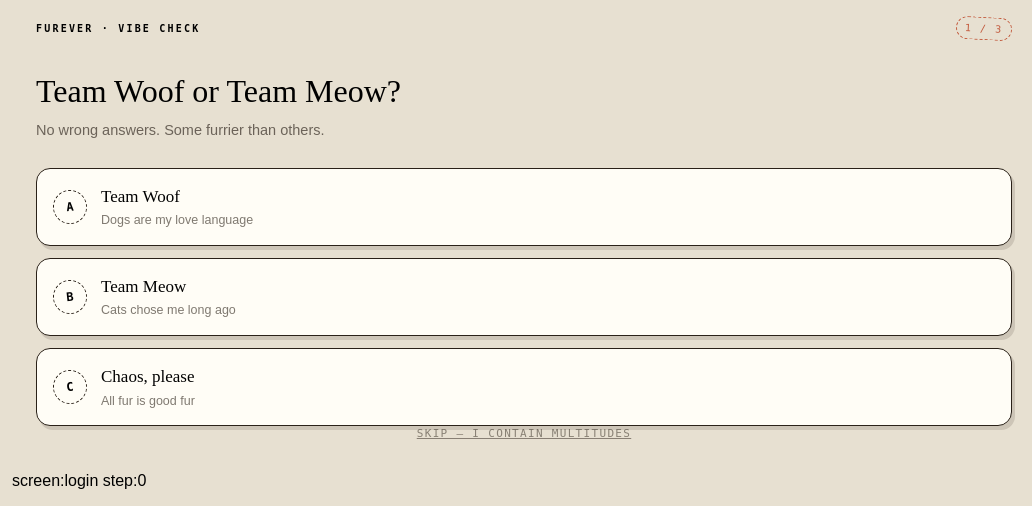
Test: Onboarding › shows the first question and advances on pick
Check: the heading "Team Woof or Team Meow?" is shown, box [36, 73, 401, 109]
Click the text "Team Woof" at (140, 196), box [101, 187, 180, 206]
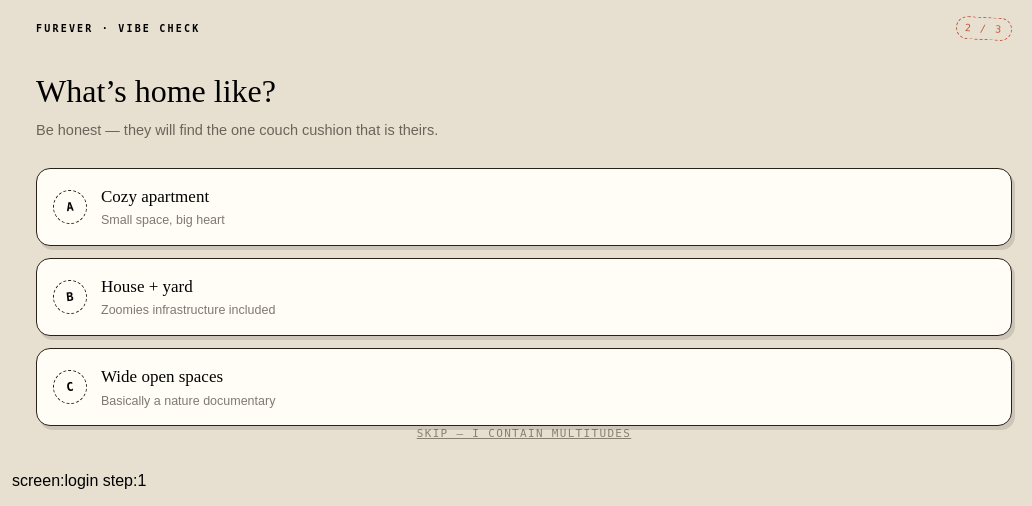
Check: the text "screen:login step:1" is shown, box [12, 472, 146, 489]
Check: the heading "What’s home like?" is shown, box [36, 73, 276, 109]
